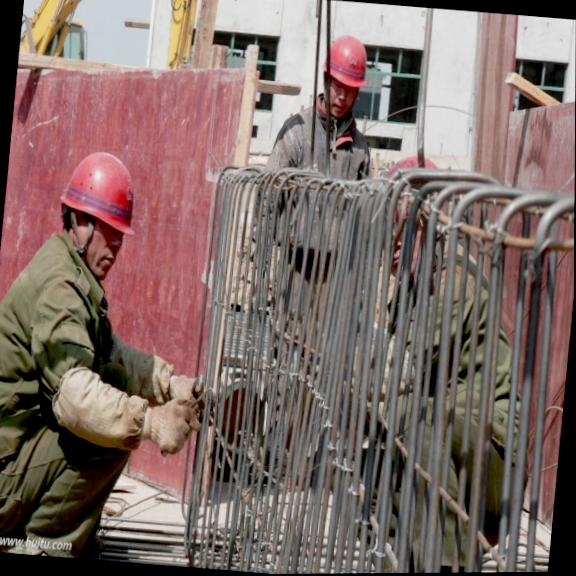no_safety_vest: (0, 243, 127, 538)
